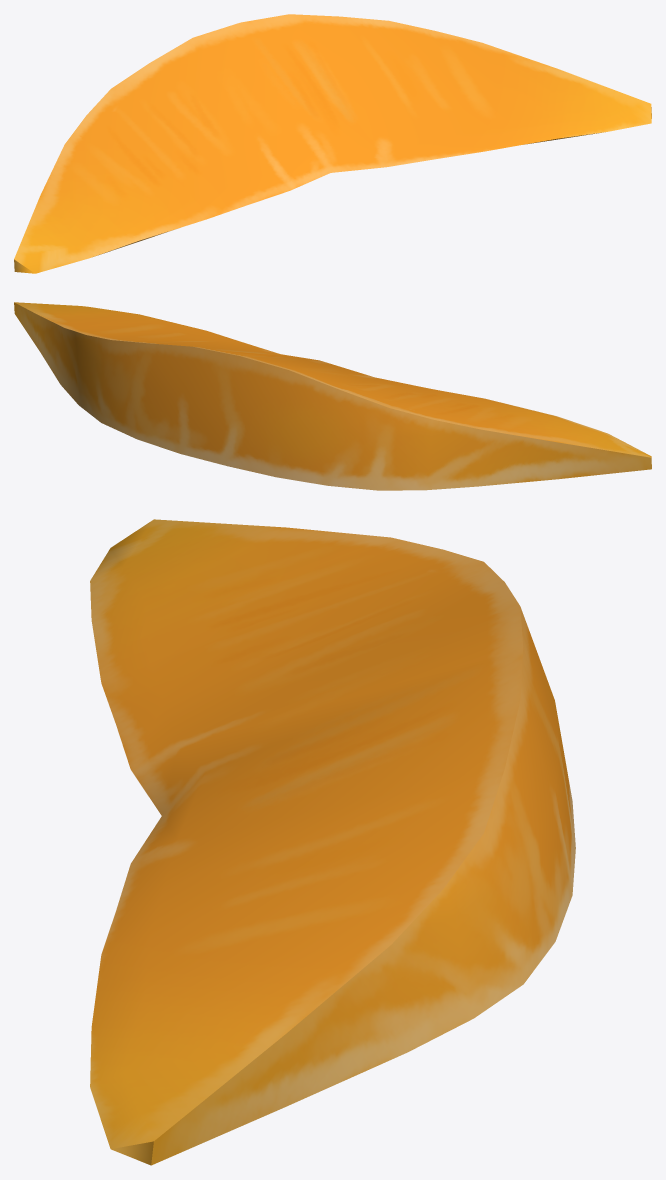
The model's file is h_orange.fbx.
3 renders of one model, top to bottom at view 1: azimuth 30°, elevation 25°; view 2: azimuth 150°, elevation 25°; view 3: azimuth 270°, elevation 25°, orthographic. The views are drawn at different scales.
Visible parts, largest first — view 1: Box002; view 2: Box002; view 3: Box002.
Boxes of the visible parts, box(x1,y1,x2,y2) form: Box002: box(14, 14, 651, 273); Box002: box(14, 302, 651, 490); Box002: box(90, 519, 575, 1165).
Bounding box in the file's own units: 36.66 × 5.69 × 12.1.
Materials: 1 (1 with a texture image).
